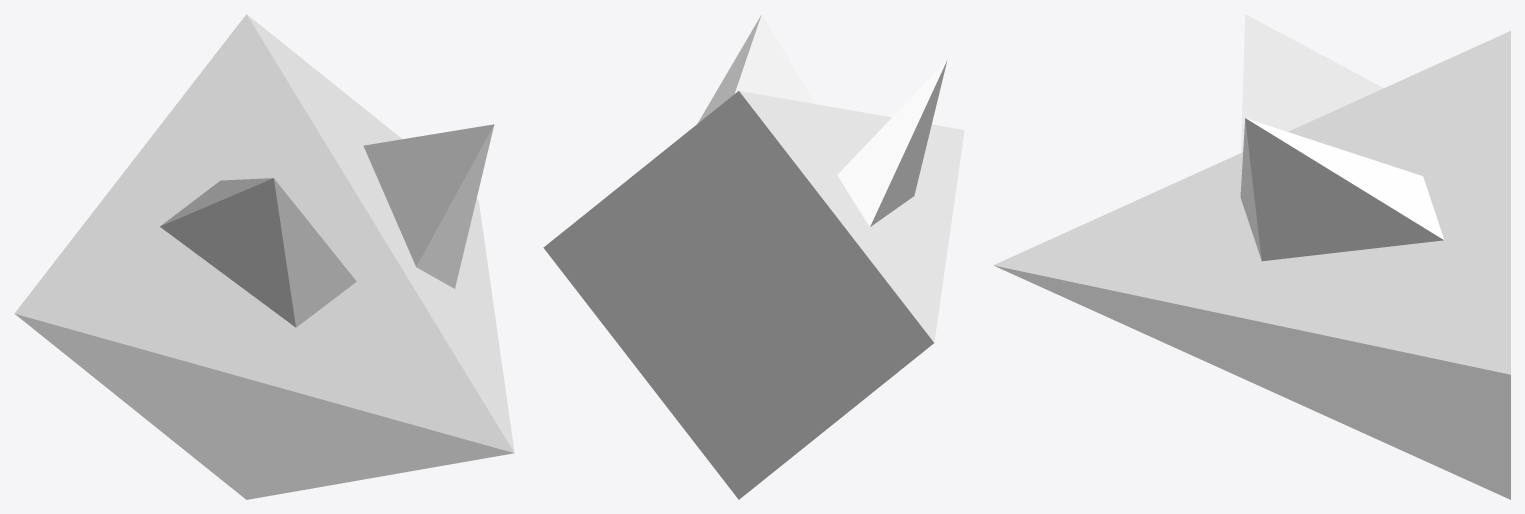
Rendered from oni.obj.
3 renders of one model, left to right at view 1: azimuth 30°, elevation 25°; view 2: azimuth 150°, elevation 25°; view 3: azimuth 270°, elevation 25°, orthographic. The views are drawn at different scales.
Visible parts, largest first — view 1: 円錐; view 2: 円錐; view 3: 円錐.
Part boxes in pixels (bbox=[...]): 円錐: bbox=[14, 14, 514, 499]; 円錐: bbox=[543, 14, 964, 499]; 円錐: bbox=[993, 14, 1510, 499].
Bounding box in the file's own units: 2 × 2 × 2.
Materials: 1 (1 with a texture image).
